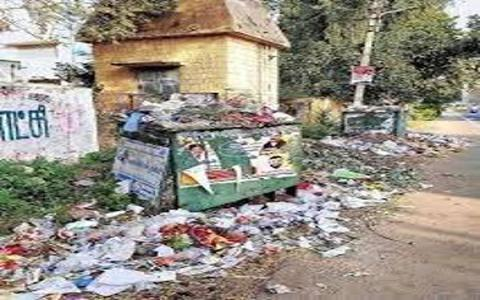overflowing garbage: (113, 100, 344, 278)
